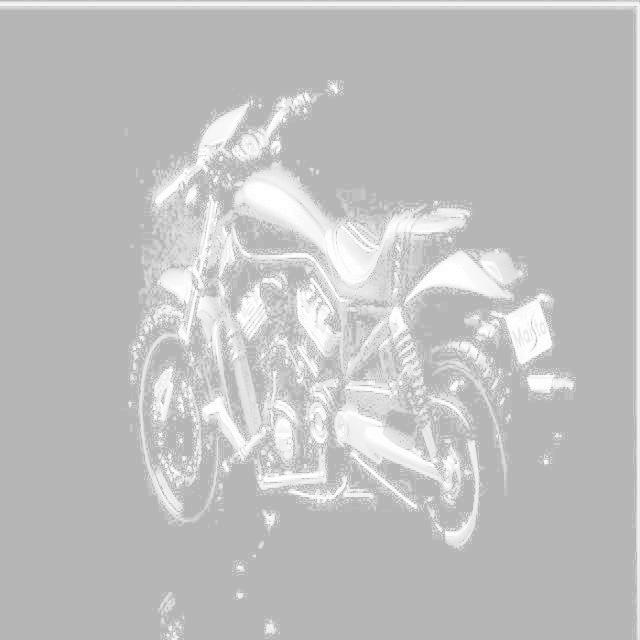Motorcycle: (122, 79, 581, 566)
